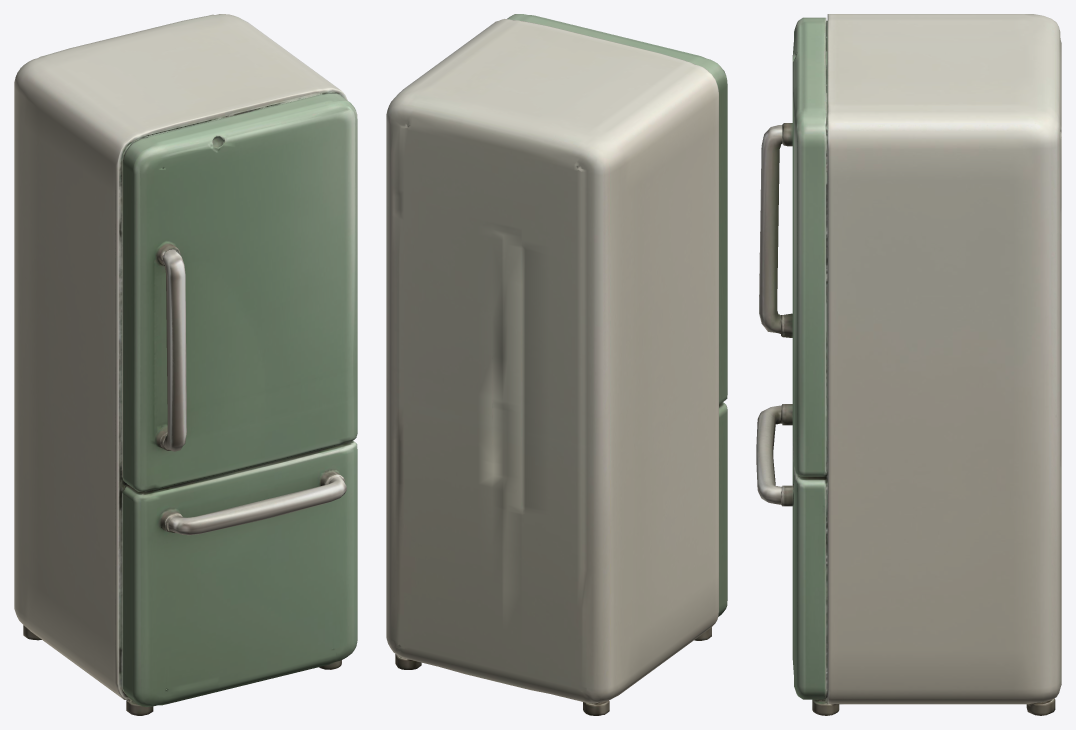
The model's file is sage-fridge-v1.glb.
3 renders of one model, left to right at view 1: azimuth 30°, elevation 25°; view 2: azimuth 150°, elevation 25°; view 3: azimuth 270°, elevation 25°, orthographic. The views are drawn at different scales.
Parts seen in each view (by area): view 1: sage-fridge-v1; view 2: sage-fridge-v1; view 3: sage-fridge-v1.
Part boxes in pixels (bbox=[...]): sage-fridge-v1: bbox=[14, 14, 357, 715]; sage-fridge-v1: bbox=[386, 14, 727, 715]; sage-fridge-v1: bbox=[756, 14, 1061, 715].
Bounding box in the file's own units: 0.6522 × 1.55 × 0.7128.
1 material, 1 textured.
